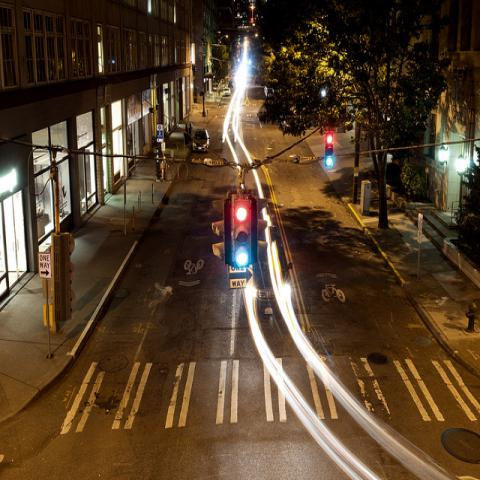car: (241, 261, 292, 317), (192, 128, 210, 151), (230, 82, 237, 91), (224, 88, 230, 97)
